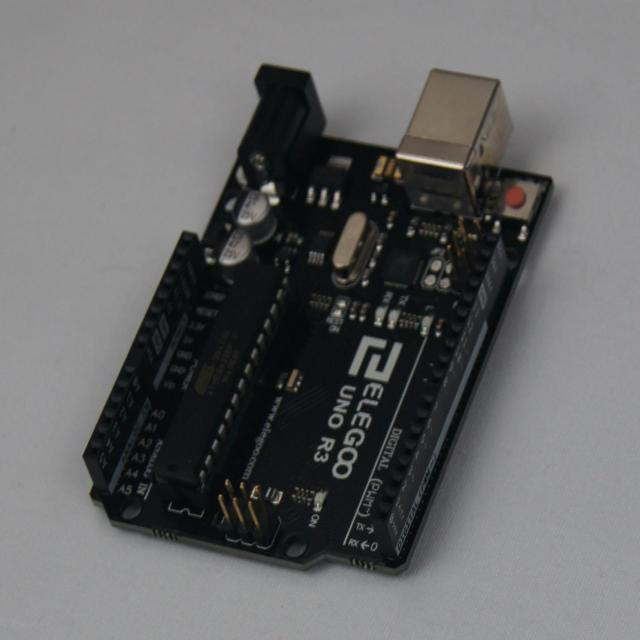Arduino Uno -Black-: (84, 66, 552, 573)
